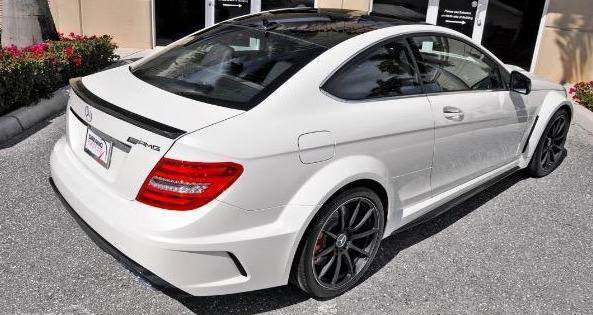C63AMG: (51, 4, 573, 303)
